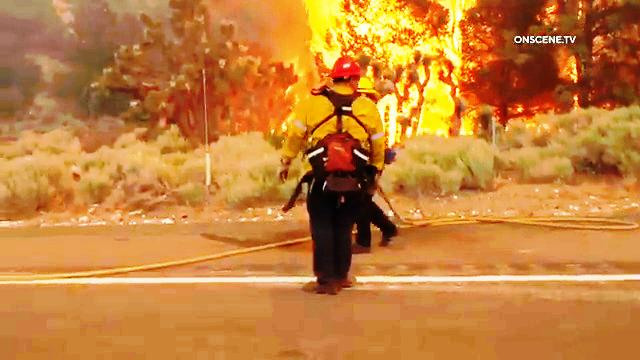fire: (384, 8, 480, 133), (312, 0, 470, 63)
